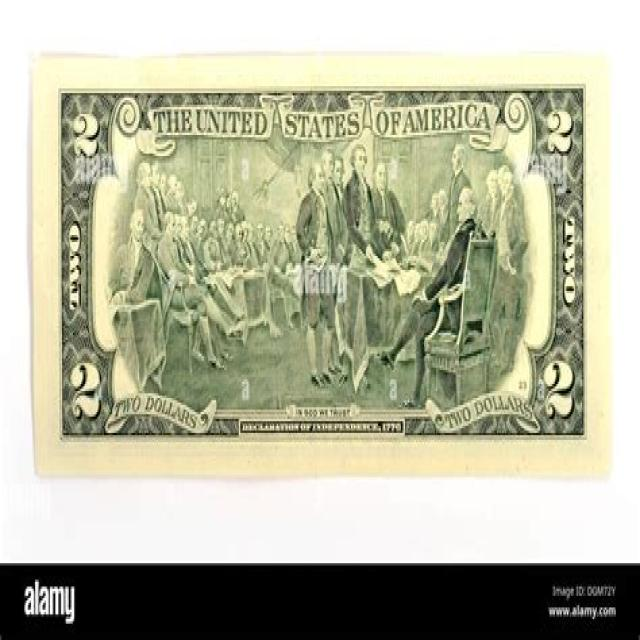Two: (30, 55, 612, 478)
